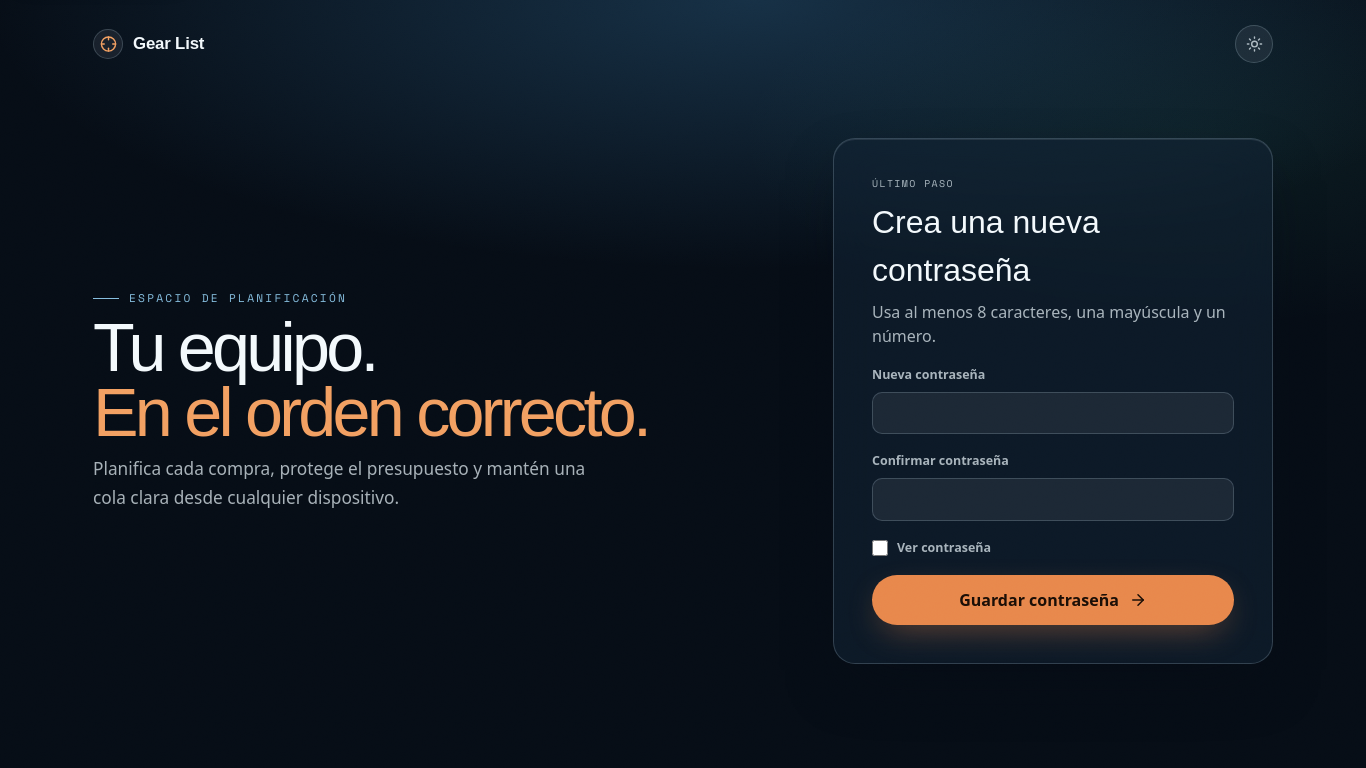
Test: Recuperación de contraseña › muestra el error de un token vencido
This screenshot has width=1366, height=768.
Type "NuevaClave123" into the password field labelled "Nueva contraseña".
click(1053, 413); type("NuevaClave123")  # box 872,392 -> 1234,434
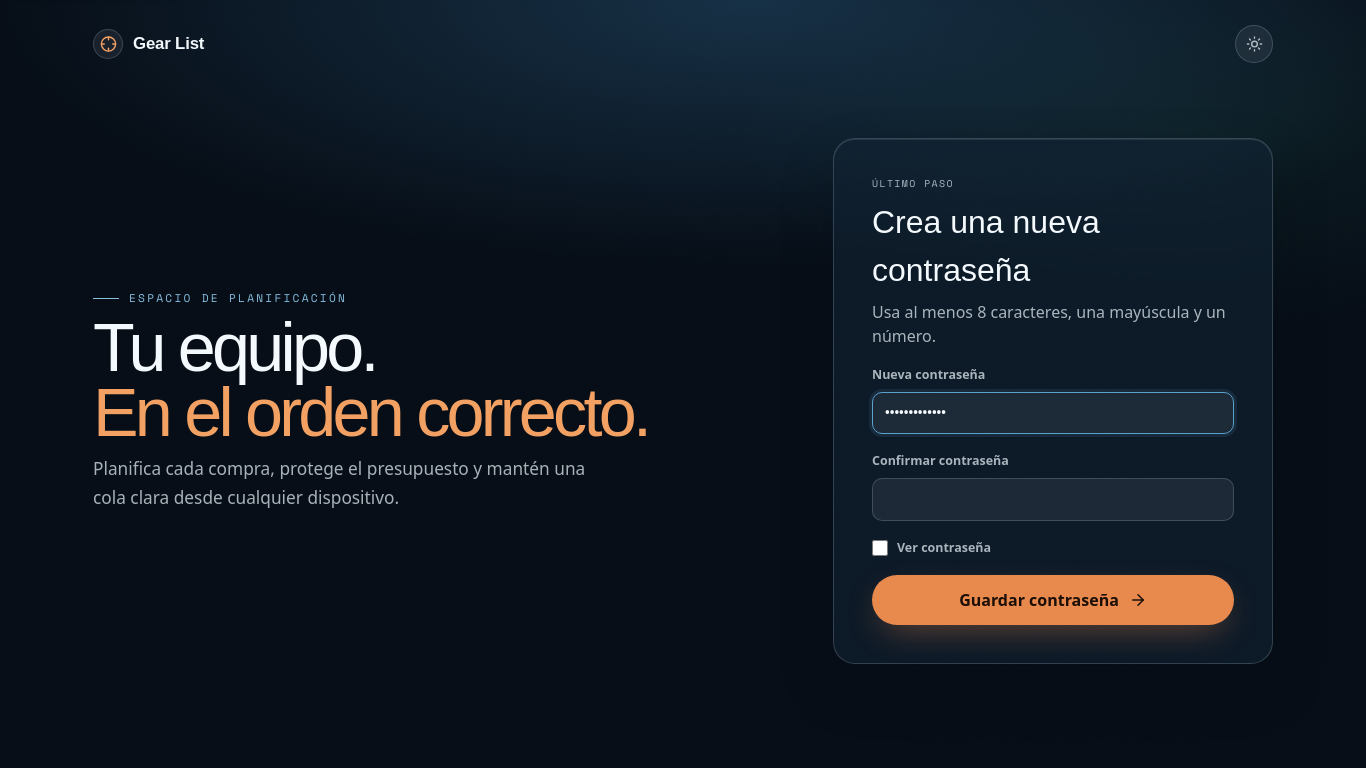
Type "NuevaClave123" into the password field labelled "Confirmar contraseña".
click(1053, 499); type("NuevaClave123")  # box 872,478 -> 1234,521
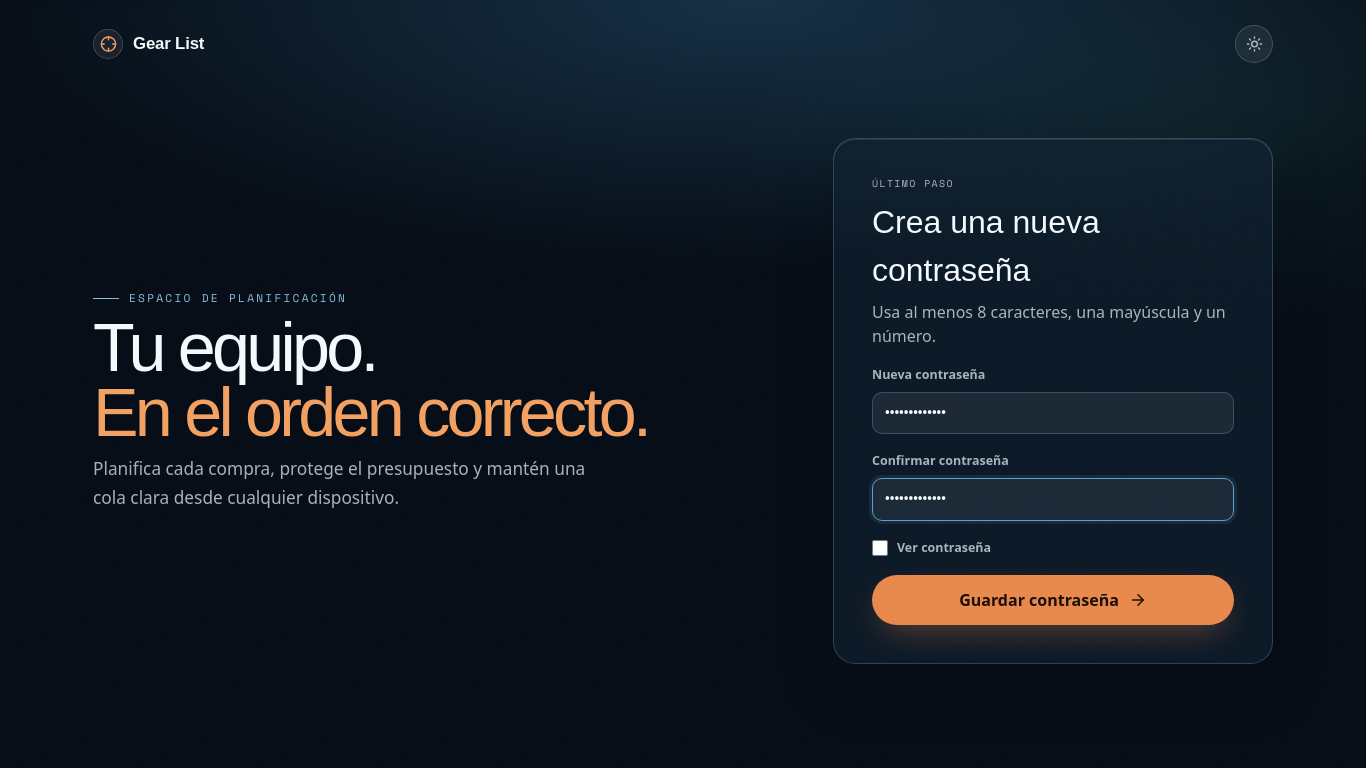
Click the button "Guardar contraseña".
click(1053, 600)  # box 872,575 -> 1234,625
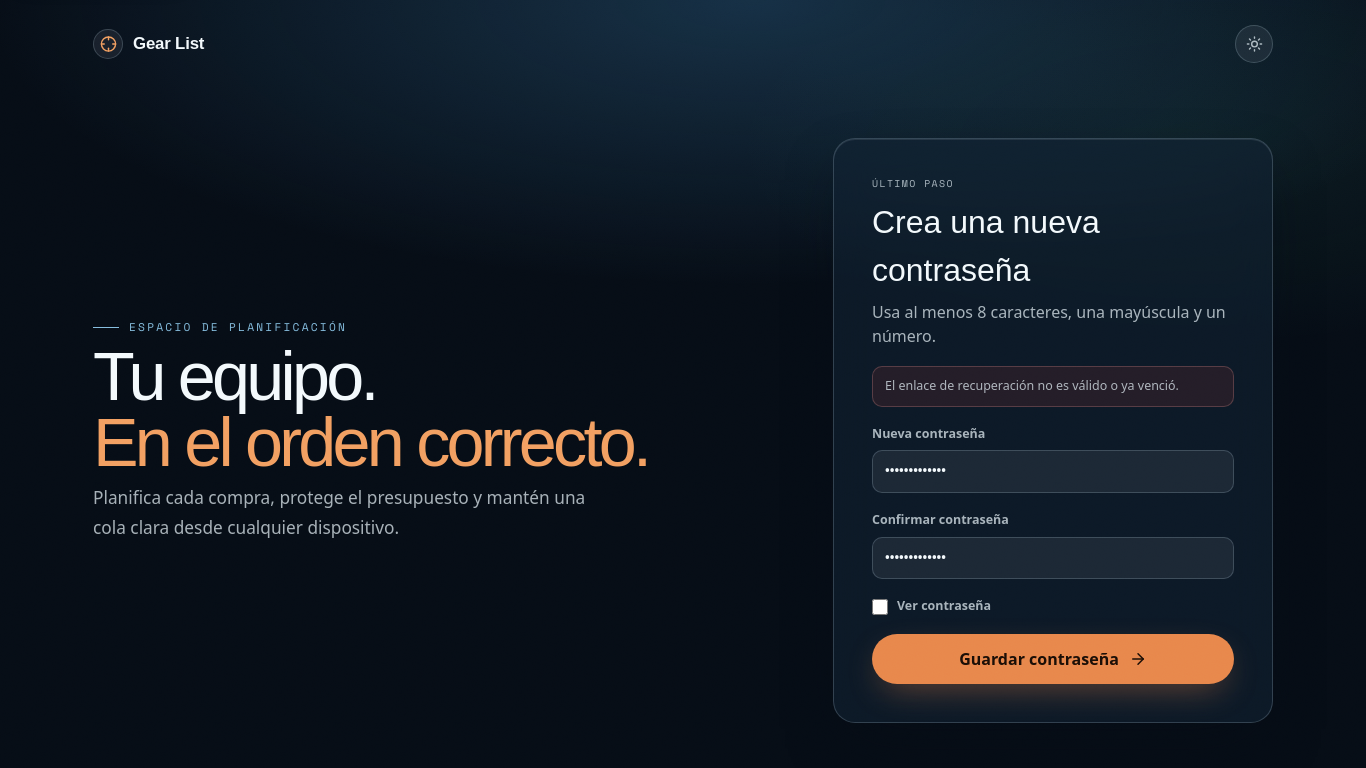
Result: the text "El enlace de recuperación no es válido o ya venció." is shown at 872,366 -> 1234,407
